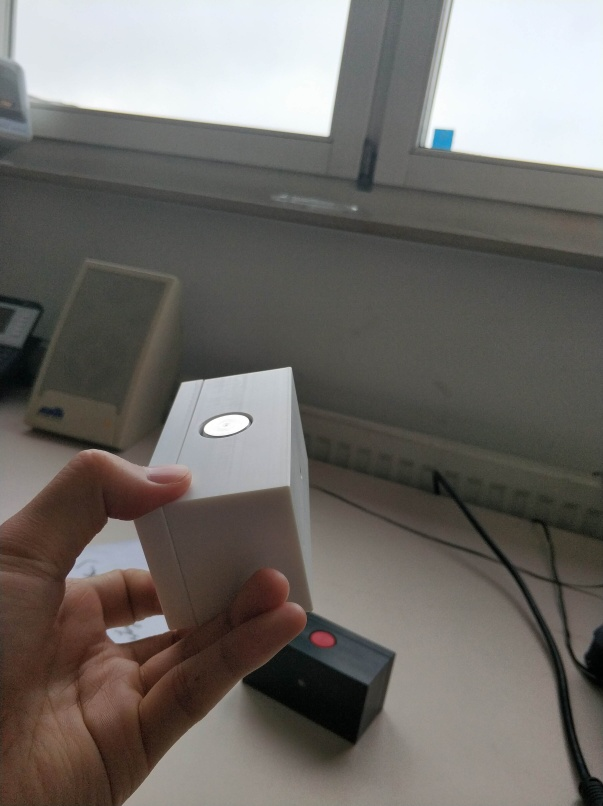black+black+red: (240, 608, 399, 749)
white+white+silver: (134, 364, 318, 628)
